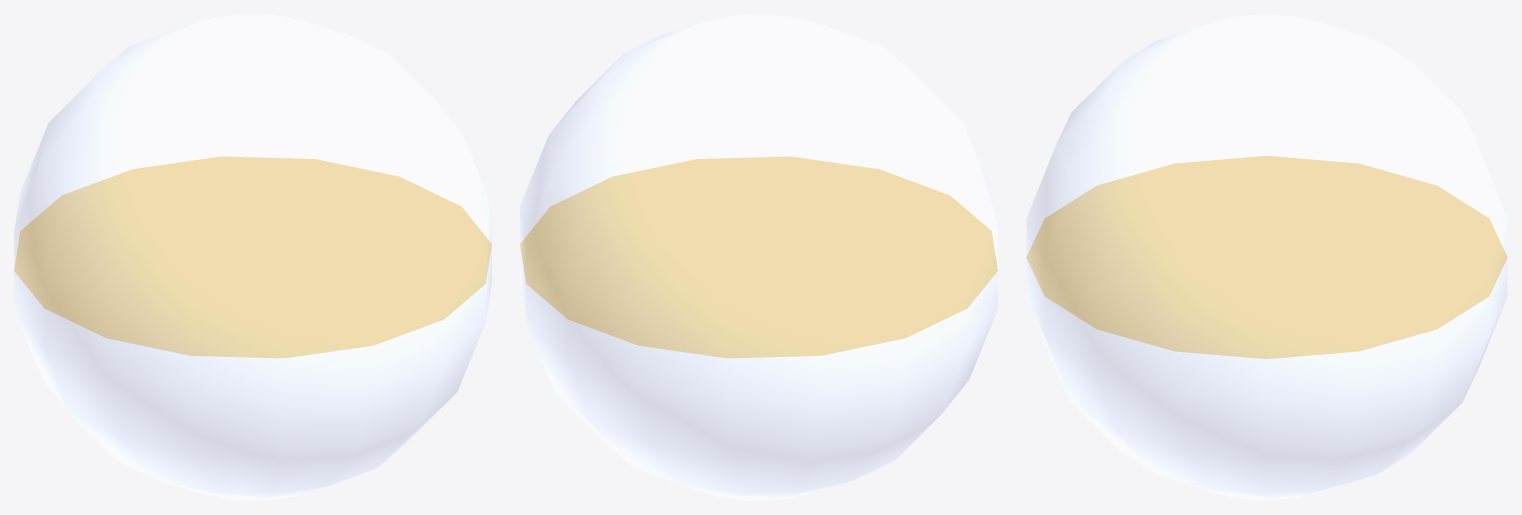
File: marble-center-high.glb
The picture shows the model from 3 angles, left to right: view 1: azimuth 30°, elevation 25°; view 2: azimuth 150°, elevation 25°; view 3: azimuth 270°, elevation 25°; orthographic projection.
Parts seen in each view (by area): view 1: (%ignore), marble-center-high; view 2: (%ignore), marble-center-high; view 3: (%ignore), marble-center-high.
Boxes of the visible parts, box(x1,y1,x2,y2) form: (%ignore): box(14, 14, 491, 500); marble-center-high: box(14, 156, 491, 358); (%ignore): box(520, 14, 997, 500); marble-center-high: box(520, 156, 997, 358); (%ignore): box(1026, 14, 1507, 500); marble-center-high: box(1026, 156, 1507, 358).
Bounding box in the file's own units: 0.3939 × 0.4 × 0.3939.
